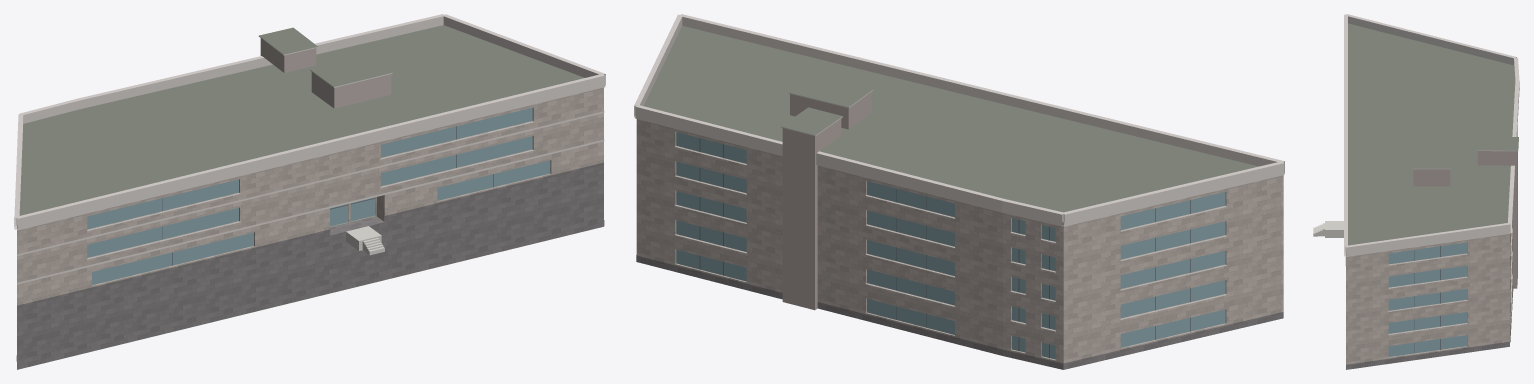
3 renders of one model, left to right at view 1: azimuth 30°, elevation 25°; view 2: azimuth 150°, elevation 25°; view 3: azimuth 270°, elevation 25°, orthographic. The views are drawn at different scales.
Parts seen in each view (by area): view 1: econ16_2__roof, econ16_2__base, econ16_2__wall, econ16_2__trim, econ16_2__glass, econ16_2__wall2, econ16_2__entranceStair; view 2: econ16_2__wall, econ16_2__roof, econ16_2__glass, econ16_2__trim, econ16_2__wall2, econ16_2__base, econ16_2__frame; view 3: econ16_2__roof, econ16_2__wall, econ16_2__trim, econ16_2__glass, econ16_2__wall2, econ16_2__base, econ16_2__entranceStair.
Boxes of the visible parts, bbox=[...] form: econ16_2__roof: bbox=[17, 25, 603, 369]; econ16_2__base: bbox=[16, 162, 604, 369]; econ16_2__wall: bbox=[17, 87, 603, 305]; econ16_2__trim: bbox=[14, 14, 605, 284]; econ16_2__glass: bbox=[87, 108, 550, 285]; econ16_2__wall2: bbox=[260, 38, 391, 108]; econ16_2__entranceStair: bbox=[346, 226, 384, 255]; econ16_2__wall: bbox=[636, 119, 1283, 369]; econ16_2__roof: bbox=[644, 26, 1258, 222]; econ16_2__glass: bbox=[676, 132, 1225, 359]; econ16_2__trim: bbox=[634, 14, 1284, 331]; econ16_2__wall2: bbox=[782, 91, 871, 310]; econ16_2__base: bbox=[636, 255, 1283, 369]; econ16_2__frame: bbox=[699, 138, 1190, 358]; econ16_2__roof: bbox=[1346, 23, 1518, 253]; econ16_2__wall: bbox=[1346, 128, 1517, 364]; econ16_2__trim: bbox=[1344, 14, 1519, 335]; econ16_2__glass: bbox=[1388, 242, 1466, 356]; econ16_2__wall2: bbox=[1413, 151, 1517, 288]; econ16_2__base: bbox=[1346, 286, 1513, 369]; econ16_2__entranceStair: bbox=[1313, 221, 1343, 237].
Bounding box in the file's own units: 77.8 × 21.53 × 29.
Materials: 9 (2 with a texture image).
